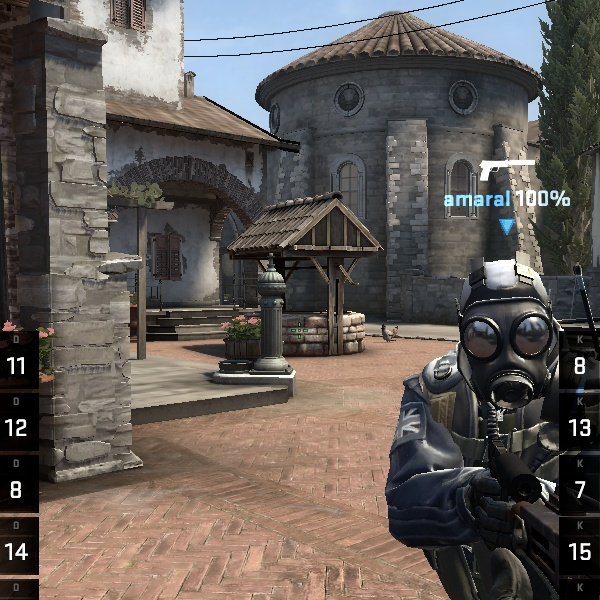ct_body: (388, 269, 597, 600)
ct_head: (442, 256, 563, 398)
